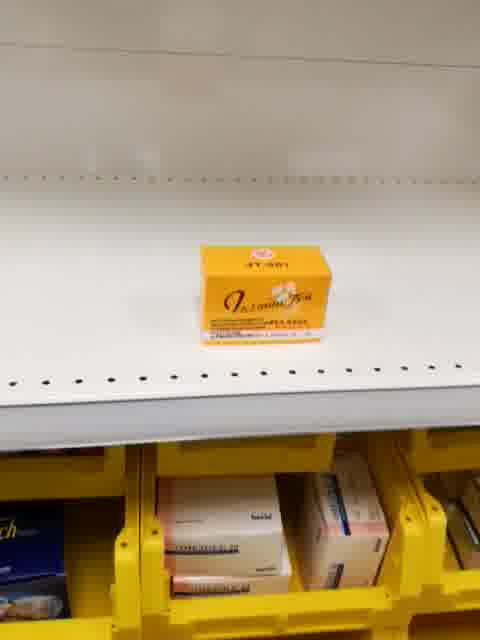jasminetea: (195, 240, 330, 348)
